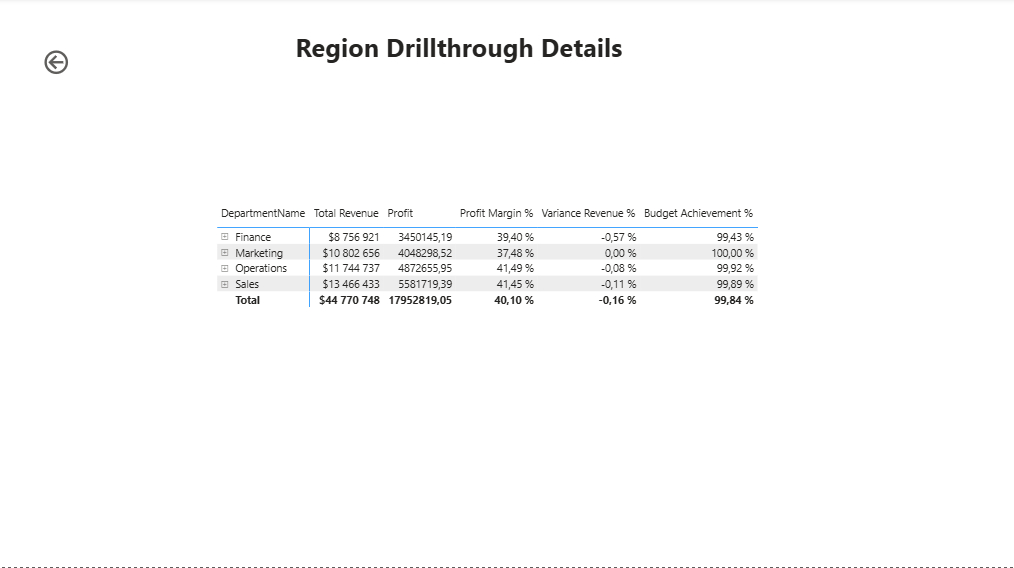

The dashboard page shown, as its layout file describes it:
{"tool":"powerbi","page":{"name":"Drillthrough Details","canvas":[1280,720],"ordinal":4},"visuals":[{"type":"pivotTable","fields":{"Rows":["Dim_Department.DepartmentName","Dim_Product.ProductName"],"Values":["Measures (2).Total Revenue","Measures (2).Profit","Measures (2).Profit Margin %","Measures (2).Variance Revenue %","Measures (2).Budget Achievement %"]},"box":[268.3,257,780.5,204.1],"z":0},{"type":"textbox","box":[325,35.9,506.5,92.6],"z":1000},{"type":"actionButton","box":[51,62.4,100.2,39.7],"z":2000}]}

Visuals, with their boxes in screenshot pixels (x1, y1, x2, y2), scaled from the page's 1280x720 canvas onto the 1014x568 screenshot:
pivotTable - Dim_Department.DepartmentName x Dim_Product.ProductName: 213/203/831/364
textbox: 257/28/659/101
actionButton: 40/49/120/81
